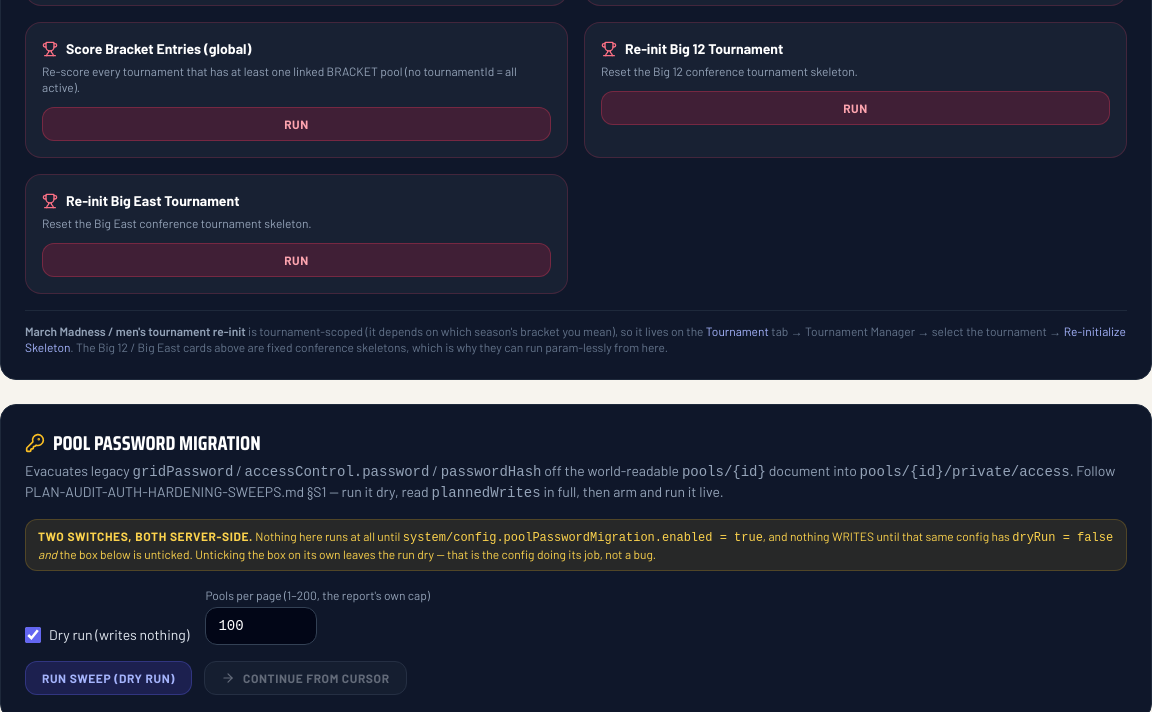
S1 — pool password migration control › refuses to resume a DRY cursor as a LIVE run (codex r1 P1)
(page scrolled)
Click the button "Run sweep (dry run)": (109, 678) [25,661,192,695]
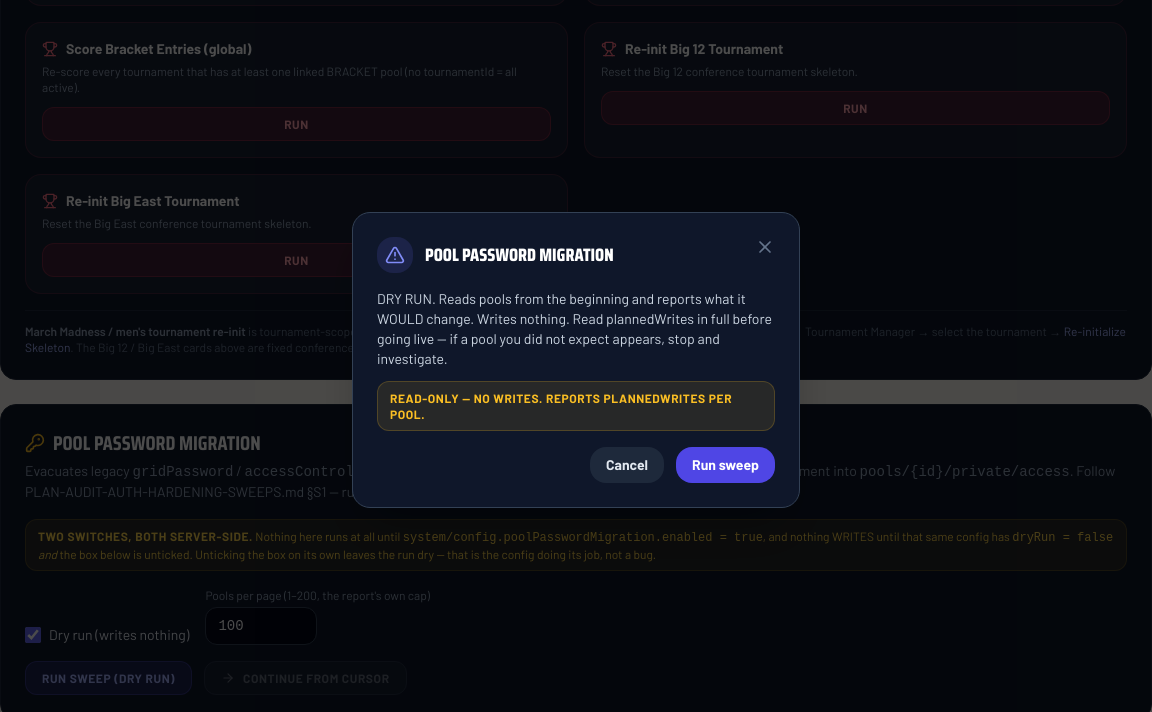
Click the button "Run sweep": (726, 465) [676,447,775,483]
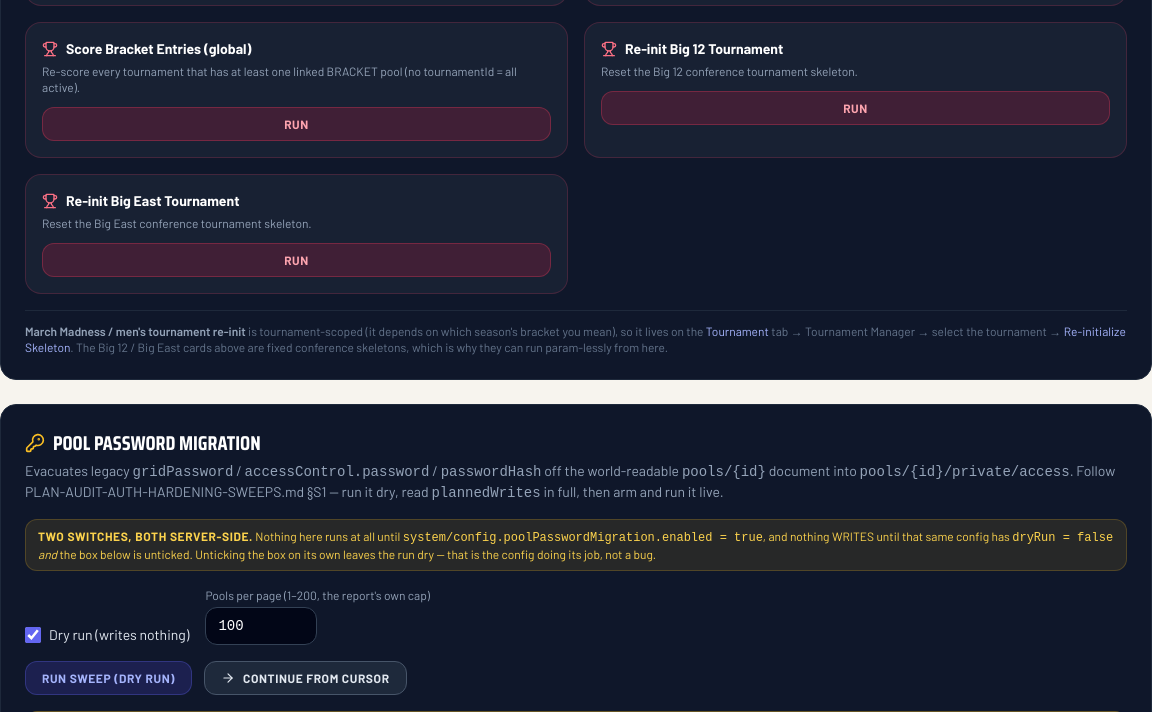
expect the button "Continue from cursor" is enabled: met, box [204,661,407,695]
Click the checkbox labelled "Dry run (writes nothing)": (33, 635) [25,627,41,643]
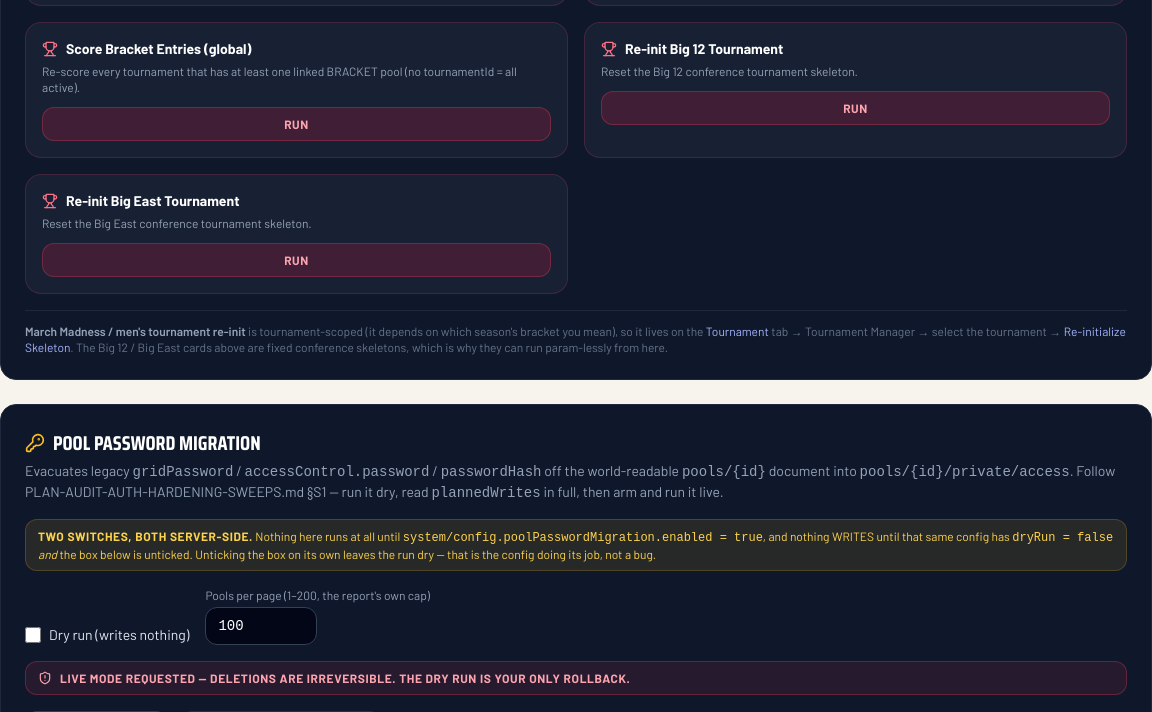
Click the checkbox labelled "Dry run (writes nothing)": (33, 635) [25,627,41,643]
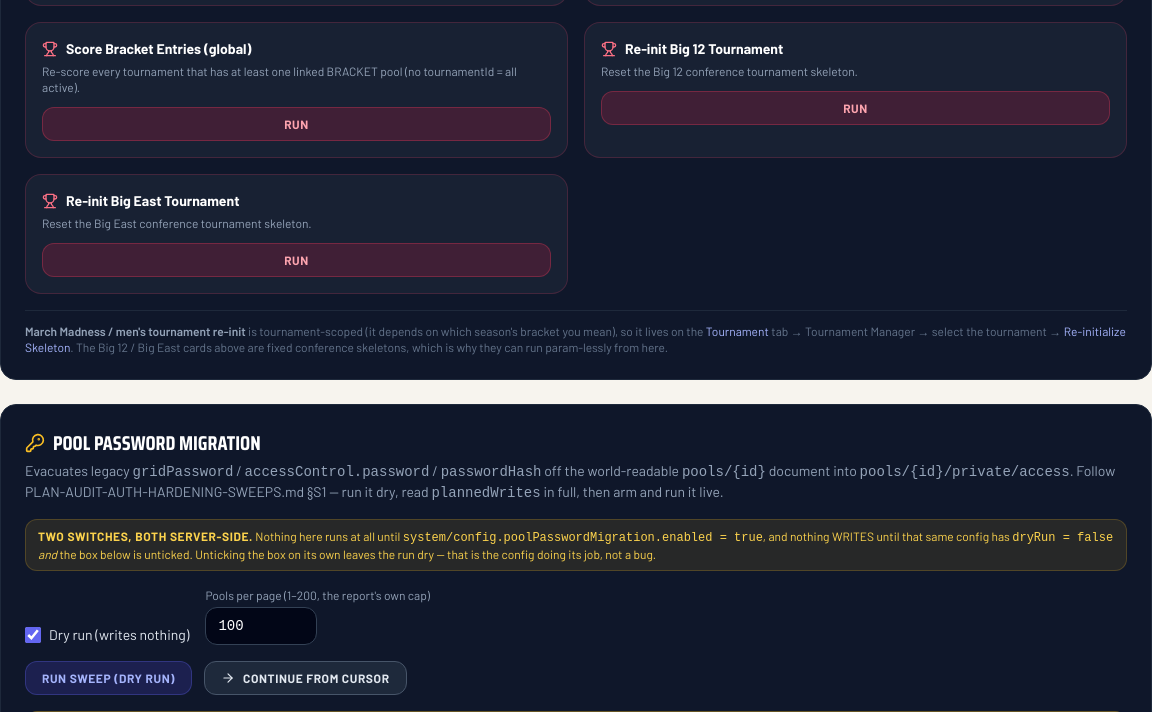
expect the button "Continue from cursor" is enabled: met, box [204,661,407,695]
